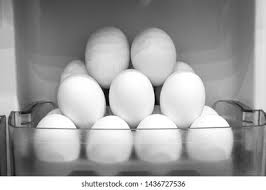eggs: (83, 26, 140, 84), (130, 19, 174, 86), (161, 68, 207, 123), (60, 70, 109, 120), (86, 111, 130, 163), (112, 67, 151, 123), (137, 115, 180, 165), (33, 107, 74, 156), (193, 110, 227, 163)
